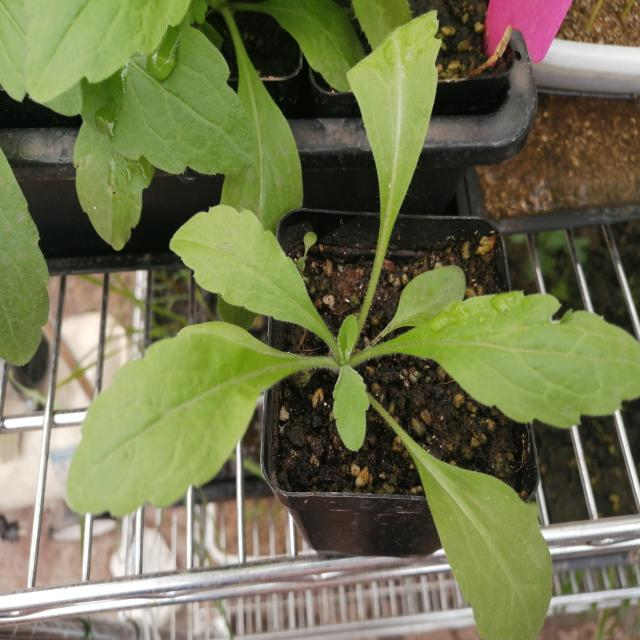horseweed: (102, 104, 634, 600)
